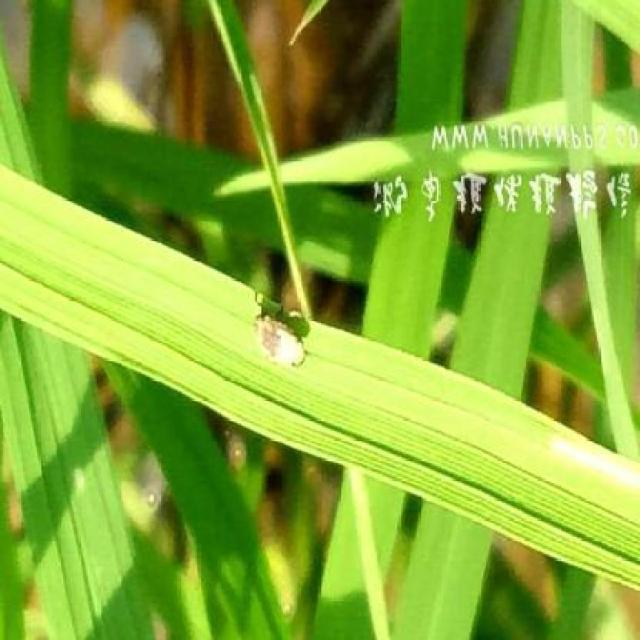rice-bug: (255, 282, 316, 366)
